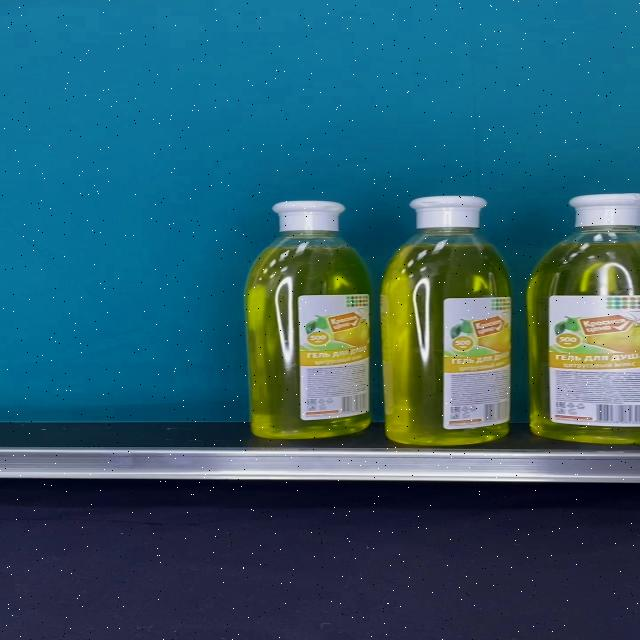Bottle: (382, 196, 511, 446), (246, 200, 371, 438)
Cap: (409, 197, 487, 229), (272, 200, 346, 232)
